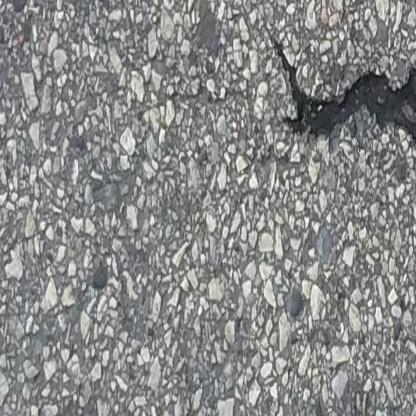Cracks: (268, 43, 416, 150)
